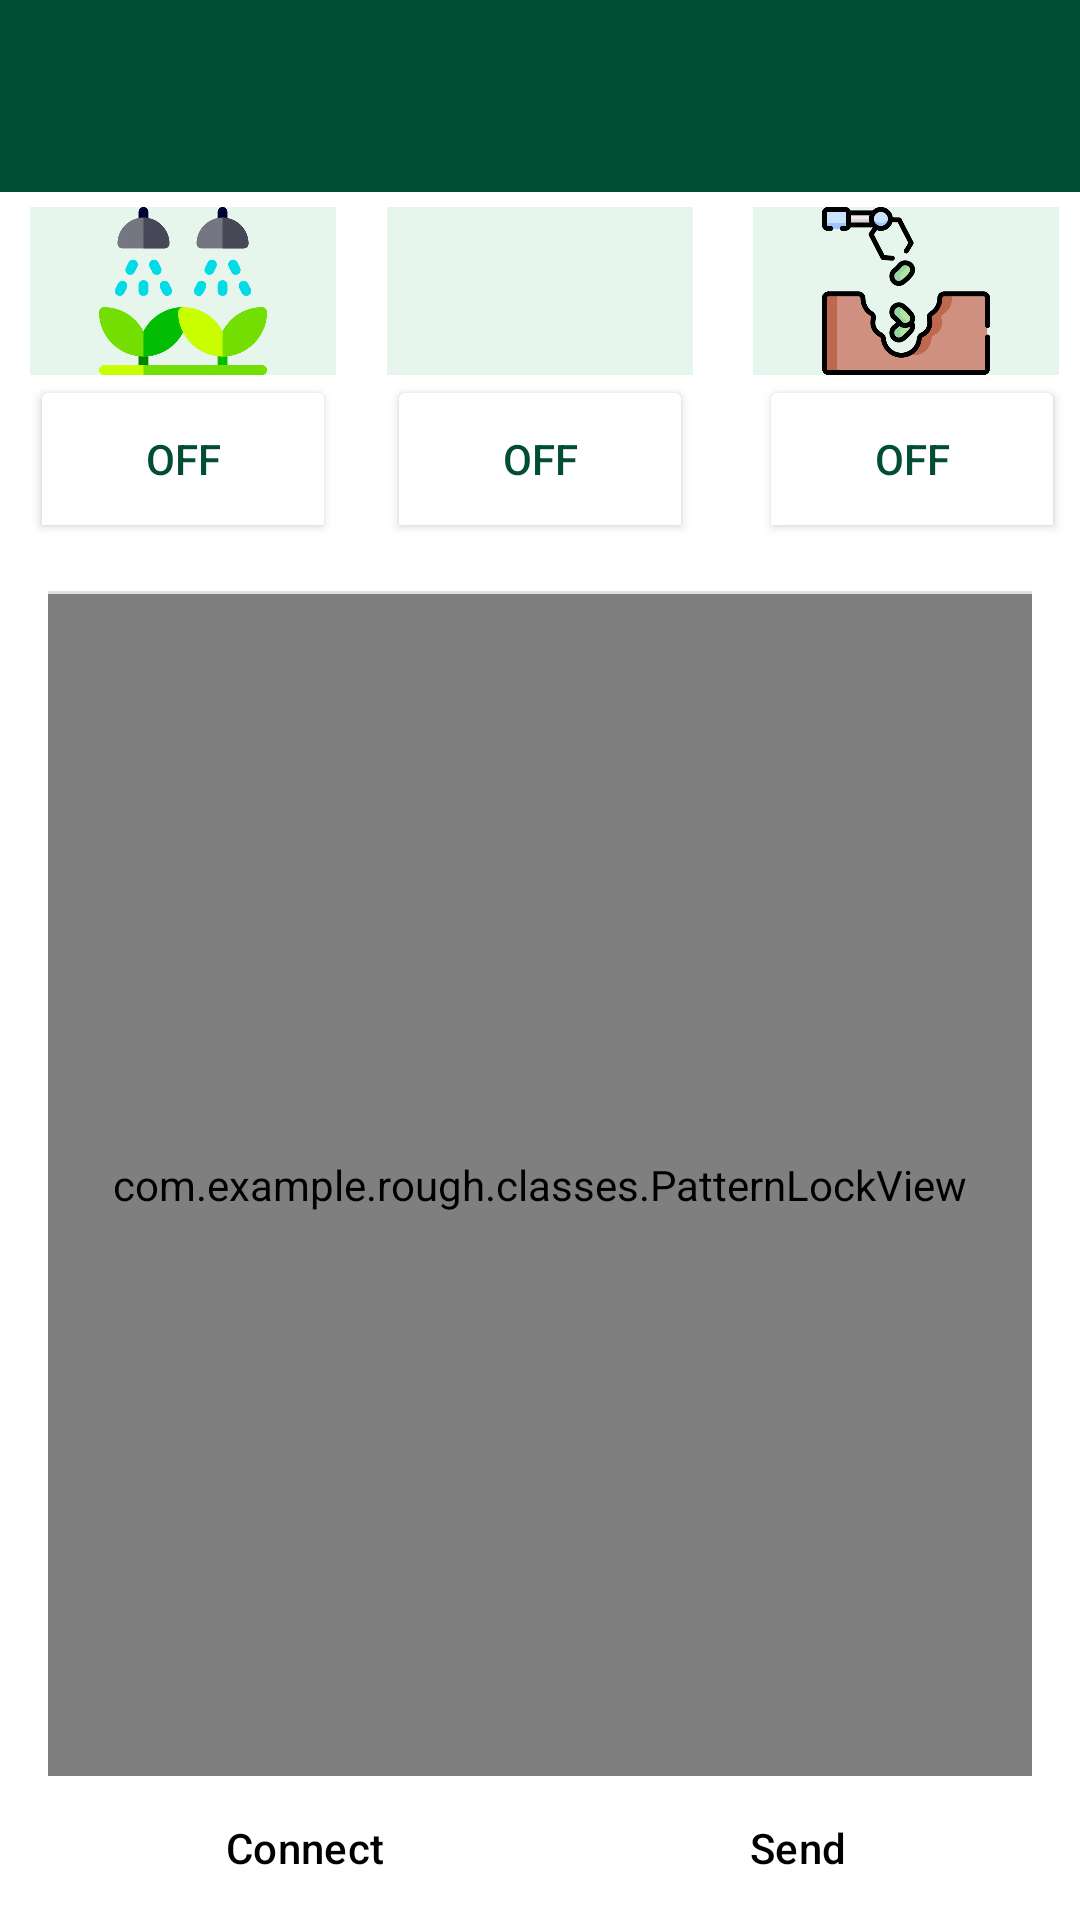

Where icons sit on this 1080 × 1920 app screen, as [x1, y1, x2, y2]:
plants: [30, 207, 336, 375]
seed: [822, 207, 990, 375]
